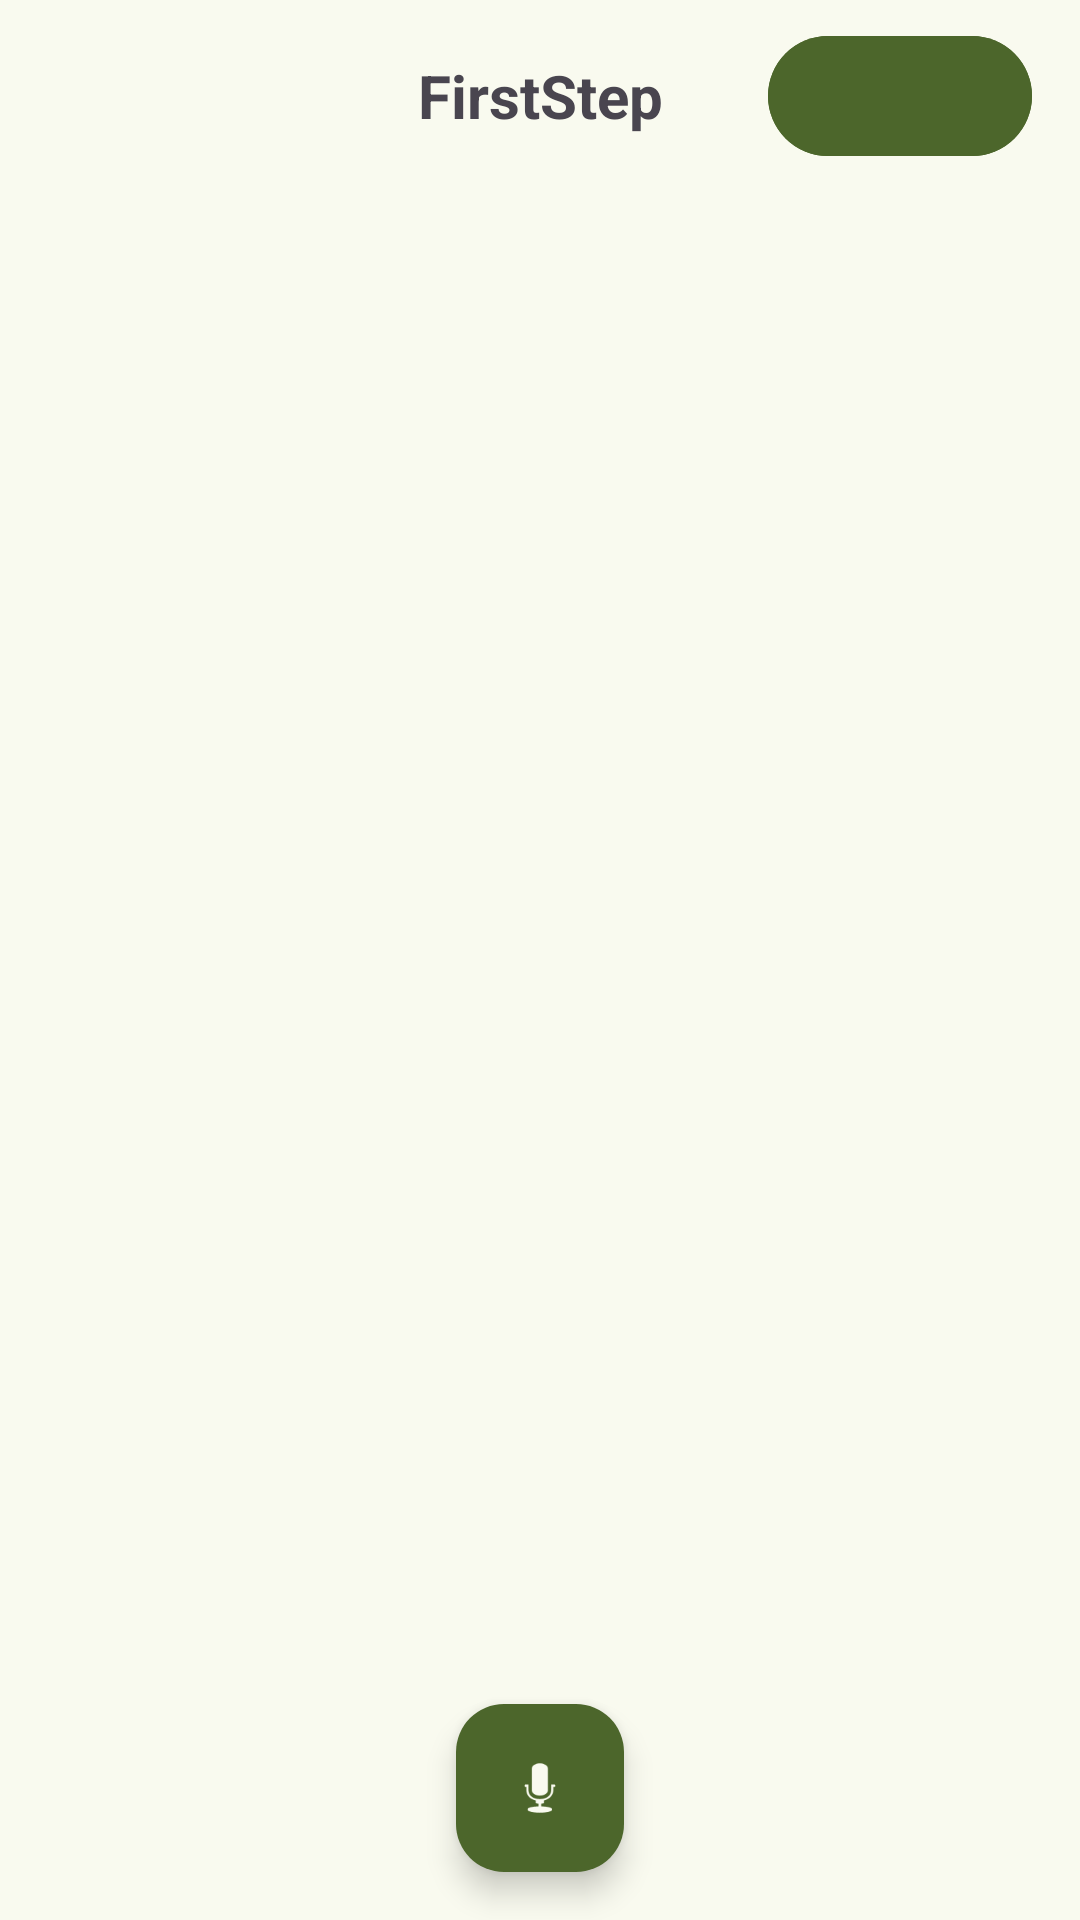

Icon bounding boxes for this 1080 × 1920 phone screenshot, format (x1, y1, x2, y2):
Speak: (456, 1704, 624, 1872)
